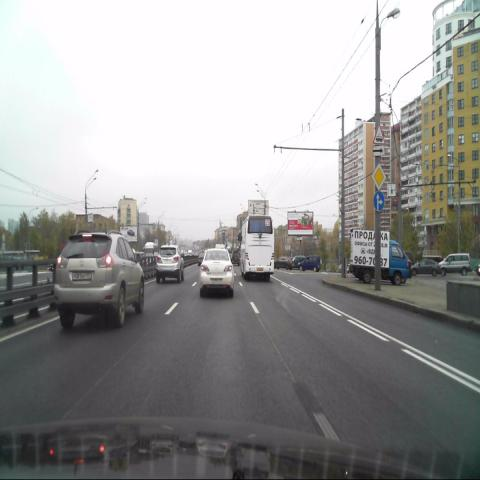1_5: (374, 123, 384, 144)
